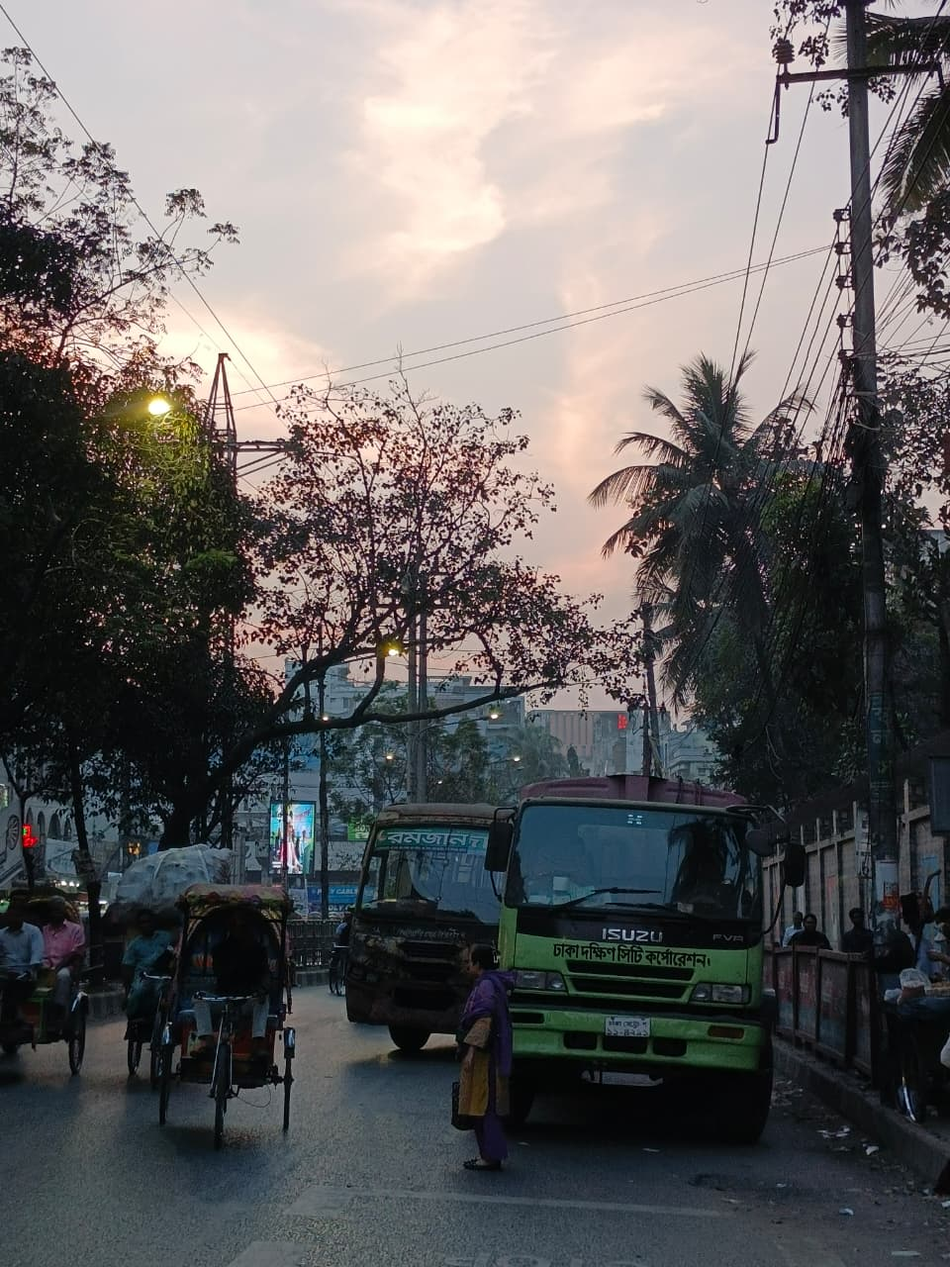Bus: (349, 758, 499, 1068)
Truck: (480, 721, 853, 1149)
auto-ricksaw: (2, 872, 360, 1161)
